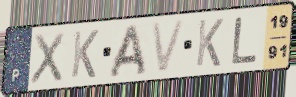A: (106, 22, 149, 80)
K: (69, 28, 101, 80), (194, 17, 226, 69)
L: (230, 15, 261, 66)
V: (149, 17, 188, 76)
X: (28, 30, 66, 87)
